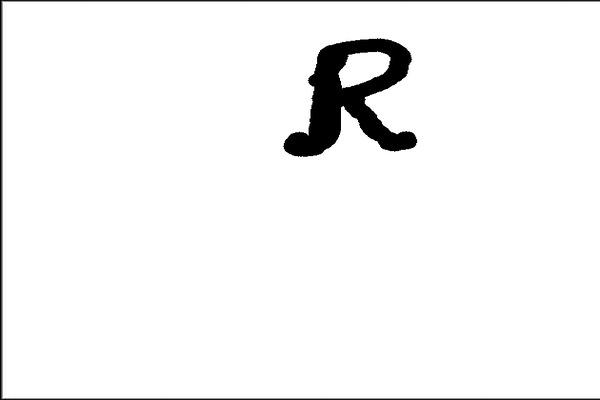R: (280, 36, 431, 159)
